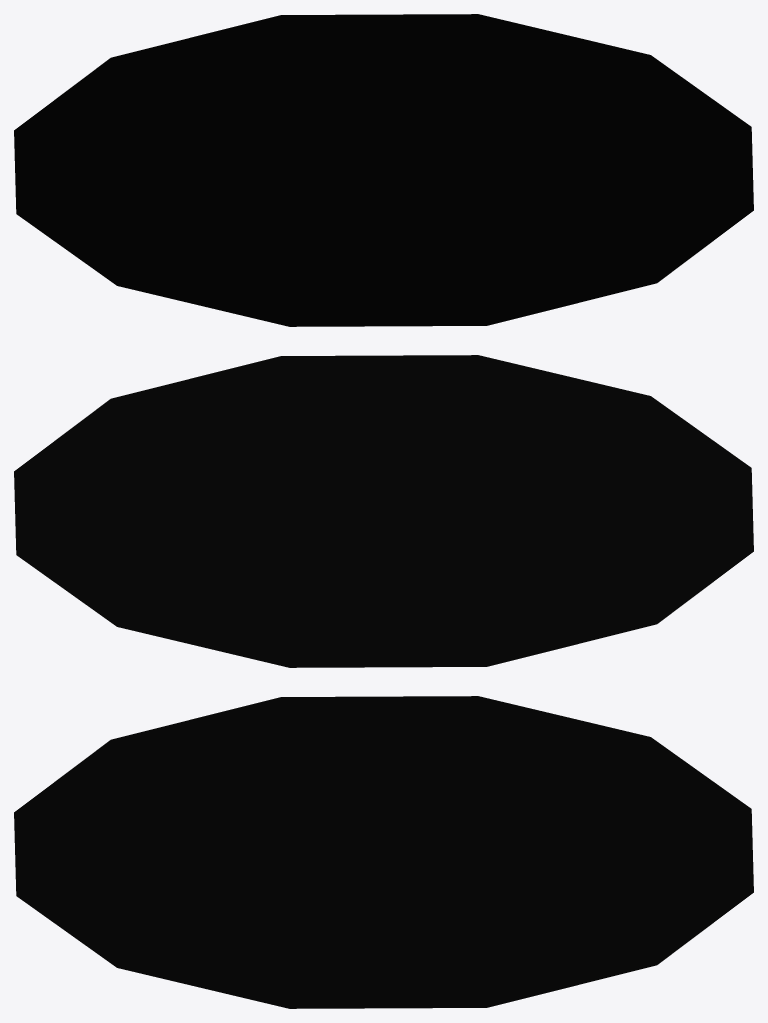
3 renders of one model, top to bottom at view 1: azimuth 30°, elevation 25°; view 2: azimuth 150°, elevation 25°; view 3: azimuth 270°, elevation 25°, orthographic.
Parts seen in each view (by area): view 1: Joint_0_Object_0; view 2: Joint_0_Object_0; view 3: Joint_0_Object_0.
Boxes of the visible parts, <box> form: Joint_0_Object_0: <box>14,14,753,326</box>; Joint_0_Object_0: <box>14,355,753,667</box>; Joint_0_Object_0: <box>14,696,753,1008</box>.
Bounding box in the file's own units: 533 × 1.31 × 533.
Materials: 1 (1 with a texture image).
